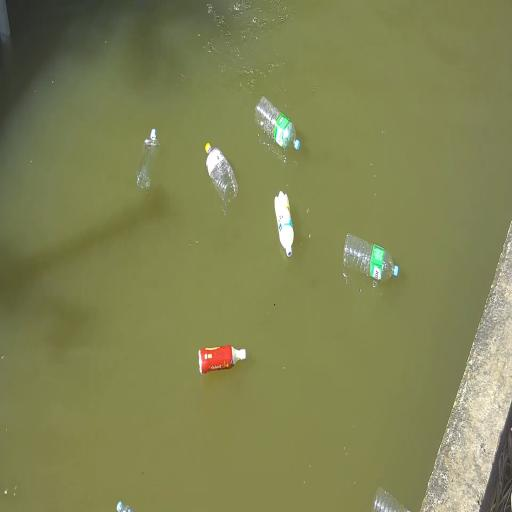plastic: (344, 234, 398, 280), (255, 97, 300, 149), (205, 143, 238, 205), (199, 346, 246, 374), (137, 129, 159, 188), (275, 192, 294, 257), (373, 488, 409, 511), (117, 501, 133, 511)
